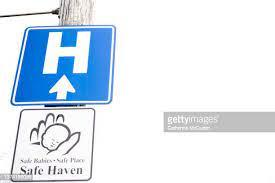Hospital: (19, 27, 120, 109)
